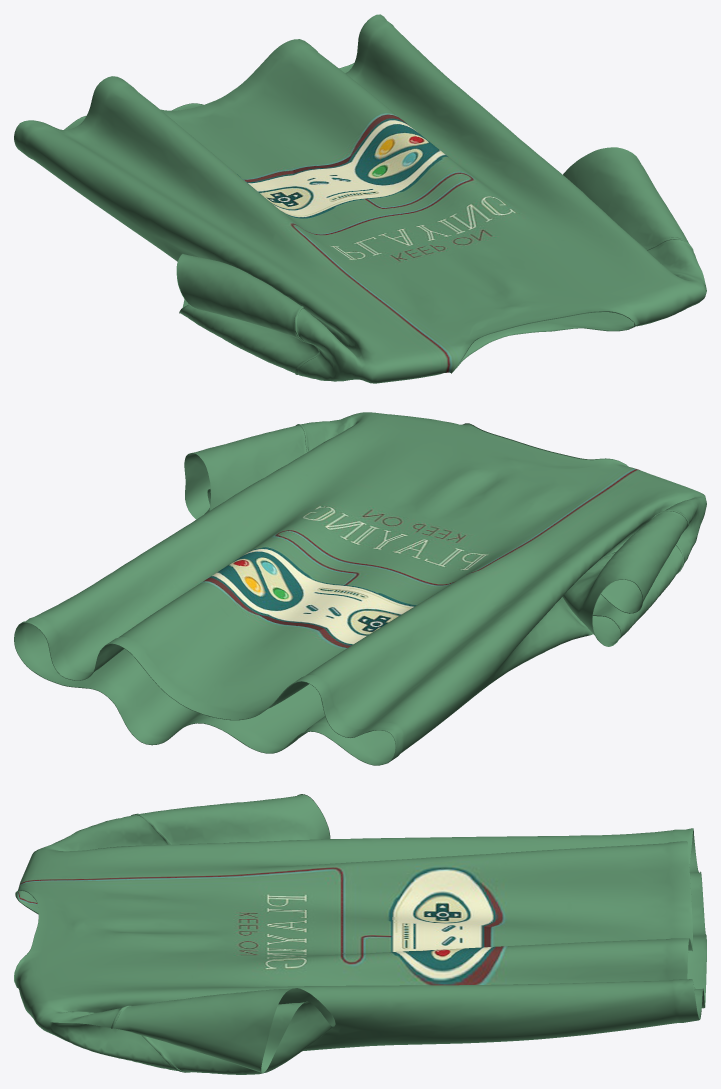
File: TNSC_Tshirt_Ts1_1.obj
3 views of the same model, one above another, from view 1: azimuth 30°, elevation 25°; view 2: azimuth 150°, elevation 25°; view 3: azimuth 270°, elevation 25° (orthographic). The views are drawn at different scales.
Size of the model in its own units: 18.96 by 4.13 by 24.65.
Materials: 1 (1 with a texture image).
